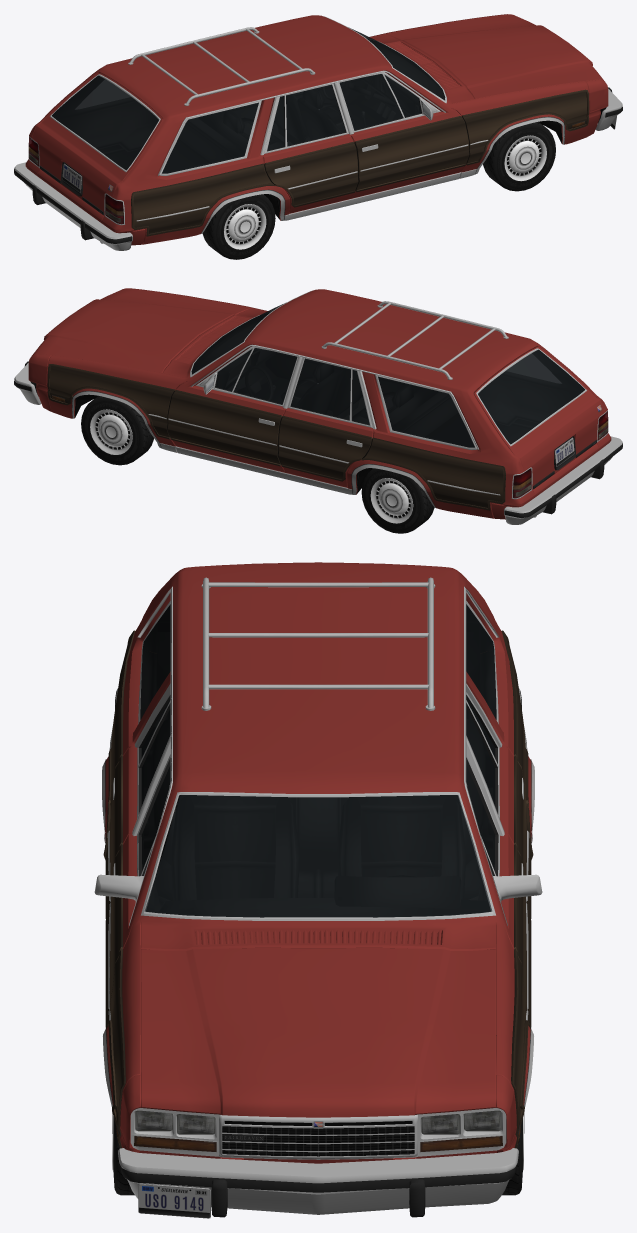
3 renders of one model, top to bottom at view 1: azimuth 30°, elevation 25°; view 2: azimuth 150°, elevation 25°; view 3: azimuth 270°, elevation 25°, orthographic. The views are drawn at different scales.
Visible parts, largest first — view 1: Fairheaven_SW80_body_Fairheaven_LT80_Bodymat_0, Fairheaven_SW80_Woodtrim_UCB_BOTTOM_GT_0, Fairheaven_LT80_Hood004_Fairheaven_LT80_Bodymat_0, Fairheaven_SW80_Interior_UCB_Interior_Trim_0, Fairheaven_SW80_Glass_Body_UCB_Lights_and_Glass_Transperent_, Fairheaven_SW80_Grand_Trim_UCB_BOTTOM_GT_0, Fairheaven_LT80_Interior_Trim004_UCB_Interior_Trim_0, Fairheaven_SW80_Glass_Rear_UCB_Lights_and_Glass_Transperent_, Fairheaven_LT80_Trunkdoor_Fairheaven_LT80_Bodymat_0, Fairheaven_LT80_WheelHubcaps_FR001_RB1c_Tire_1k_0, Fairheaven_LT80_WheelHubcaps_RL001_RB1c_Tire_1k_0, Fairheaven_LT80_Glass_Passanger006_UCB_Lights_and_Glass_Tran (+10 smaller); view 2: Fairheaven_SW80_body_Fairheaven_LT80_Bodymat_0, Fairheaven_SW80_Woodtrim_UCB_BOTTOM_GT_0, Fairheaven_LT80_Hood004_Fairheaven_LT80_Bodymat_0, Fairheaven_SW80_Interior_UCB_Interior_Trim_0, Fairheaven_SW80_Glass_Body_UCB_Lights_and_Glass_Transperent_, Fairheaven_SW80_Grand_Trim_UCB_BOTTOM_GT_0, Fairheaven_LT80_Interior_Trim004_UCB_Interior_Trim_0, Fairheaven_SW80_Glass_Rear_UCB_Lights_and_Glass_Transperent_, Fairheaven_LT80_Trunkdoor_Fairheaven_LT80_Bodymat_0, Fairheaven_LT80_WheelHubcaps_FL001_RB1c_Tire_1k_0, Fairheaven_LT80_WheelHubcaps_RR001_RB1c_Tire_1k_0, Fairheaven_LT80_Glass_Driver006_UCB_Lights_and_Glass_Transpe (+11 smaller); view 3: Fairheaven_SW80_body_Fairheaven_LT80_Bodymat_0, Fairheaven_LT80_Hood004_Fairheaven_LT80_Bodymat_0, Fairheaven_LT80_Interior_Trim004_UCB_Interior_Trim_0, Fairheaven_LT80_Windshield005_UCB_Lights_and_Glass_Transpere, Fairheaven_LT80_Bumper_Front004_UCB_BOTTOM_GT_0, Fairheaven_SW80_Grand_Trim_UCB_BOTTOM_GT_0, Fairheaven_LT80_Front_Plate_Inner004_UCB_BOTTOM_GT_0, Fairheaven_SW80_Woodtrim_UCB_BOTTOM_GT_0, Fairheaven_SW80_Glass_Body_UCB_Lights_and_Glass_Transperent_, Fairheaven_SW80_Roofrack_UCB_BOTTOM_GT_0, Fairheaven_SW80_Interior_UCB_Interior_Trim_0, Fairheaven_LT80_Headlights_Glass004_UCB_Lights_and_Glass_Tra (+5 smaller).
Boxes of the visible parts, bbox=[...] form: Fairheaven_SW80_body_Fairheaven_LT80_Bodymat_0: bbox=[25, 15, 589, 245]; Fairheaven_SW80_Woodtrim_UCB_BOTTOM_GT_0: bbox=[131, 89, 589, 236]; Fairheaven_LT80_Hood004_Fairheaven_LT80_Bodymat_0: bbox=[386, 14, 603, 98]; Fairheaven_SW80_Interior_UCB_Interior_Trim_0: bbox=[52, 39, 444, 173]; Fairheaven_SW80_Glass_Body_UCB_Lights_and_Glass_Transperent_: bbox=[76, 80, 345, 173]; Fairheaven_SW80_Grand_Trim_UCB_BOTTOM_GT_0: bbox=[28, 16, 564, 233]; Fairheaven_LT80_Interior_Trim004_UCB_Interior_Trim_0: bbox=[198, 43, 445, 151]; Fairheaven_SW80_Glass_Rear_UCB_Lights_and_Glass_Transperent_: bbox=[51, 75, 158, 170]; Fairheaven_LT80_Trunkdoor_Fairheaven_LT80_Bodymat_0: bbox=[32, 72, 163, 215]; Fairheaven_LT80_WheelHubcaps_FR001_RB1c_Tire_1k_0: bbox=[483, 122, 555, 191]; Fairheaven_LT80_WheelHubcaps_RL001_RB1c_Tire_1k_0: bbox=[202, 194, 275, 259]; Fairheaven_LT80_Glass_Passanger006_UCB_Lights_and_Glass_Tran: bbox=[339, 74, 420, 130]; Fairheaven_SW80_body_Fairheaven_LT80_Bodymat_0: bbox=[47, 289, 611, 519]; Fairheaven_SW80_Woodtrim_UCB_BOTTOM_GT_0: bbox=[47, 364, 505, 510]; Fairheaven_LT80_Hood004_Fairheaven_LT80_Bodymat_0: bbox=[33, 288, 250, 373]; Fairheaven_SW80_Interior_UCB_Interior_Trim_0: bbox=[194, 313, 584, 447]; Fairheaven_SW80_Glass_Body_UCB_Lights_and_Glass_Transperent_: bbox=[291, 354, 560, 447]; Fairheaven_SW80_Grand_Trim_UCB_BOTTOM_GT_0: bbox=[72, 290, 608, 507]; Fairheaven_LT80_Interior_Trim004_UCB_Interior_Trim_0: bbox=[192, 320, 438, 425]; Fairheaven_SW80_Glass_Rear_UCB_Lights_and_Glass_Transperent_: bbox=[478, 349, 585, 444]; Fairheaven_LT80_Trunkdoor_Fairheaven_LT80_Bodymat_0: bbox=[473, 346, 604, 489]; Fairheaven_LT80_WheelHubcaps_FL001_RB1c_Tire_1k_0: bbox=[81, 396, 153, 465]; Fairheaven_LT80_WheelHubcaps_RR001_RB1c_Tire_1k_0: bbox=[361, 468, 434, 533]; Fairheaven_LT80_Glass_Driver006_UCB_Lights_and_Glass_Transpe: bbox=[215, 348, 297, 404]; Fairheaven_SW80_body_Fairheaven_LT80_Bodymat_0: bbox=[105, 562, 531, 1139]; Fairheaven_LT80_Hood004_Fairheaven_LT80_Bodymat_0: bbox=[140, 947, 496, 1117]; Fairheaven_LT80_Interior_Trim004_UCB_Interior_Trim_0: bbox=[144, 719, 492, 917]; Fairheaven_LT80_Windshield005_UCB_Lights_and_Glass_Transpere: bbox=[144, 795, 492, 917]; Fairheaven_LT80_Bumper_Front004_UCB_BOTTOM_GT_0: bbox=[118, 1148, 518, 1217]; Fairheaven_SW80_Grand_Trim_UCB_BOTTOM_GT_0: bbox=[94, 586, 542, 1106]; Fairheaven_LT80_Front_Plate_Inner004_UCB_BOTTOM_GT_0: bbox=[130, 1108, 506, 1159]; Fairheaven_SW80_Woodtrim_UCB_BOTTOM_GT_0: bbox=[103, 630, 533, 1148]; Fairheaven_SW80_Glass_Body_UCB_Lights_and_Glass_Transperent_: bbox=[140, 604, 496, 806]; Fairheaven_SW80_Roofrack_UCB_BOTTOM_GT_0: bbox=[201, 577, 435, 710]; Fairheaven_SW80_Interior_UCB_Interior_Trim_0: bbox=[140, 623, 496, 913]; Fairheaven_LT80_Headlights_Glass004_UCB_Lights_and_Glass_Tra: bbox=[134, 1110, 502, 1151].
Bounding box in the file's own units: 5 × 1.4 × 1.83.
8 materials, 7 textured.
